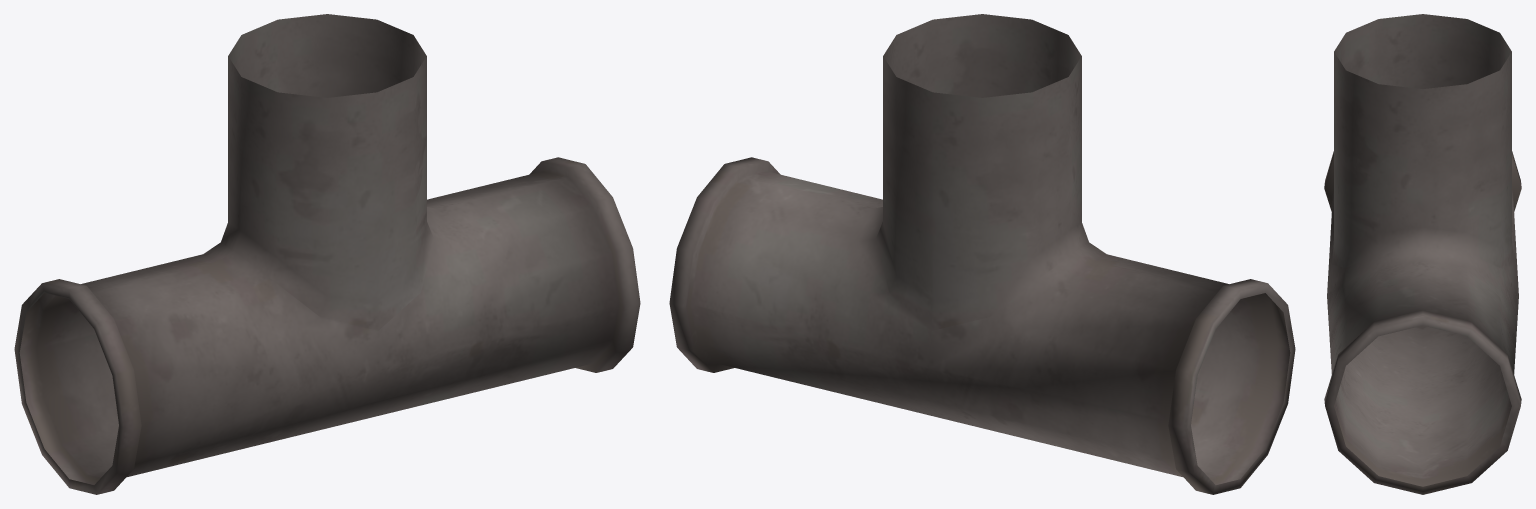
Rendered from CanoEnormeT.fbx.
3 views of the same model, side by side, from view 1: azimuth 30°, elevation 25°; view 2: azimuth 150°, elevation 25°; view 3: azimuth 270°, elevation 25° (orthographic). The views are drawn at different scales.
Visible parts, largest first — view 1: CanoEnormeT; view 2: CanoEnormeT; view 3: CanoEnormeT.
Part boxes in pixels (x1=…): CanoEnormeT: x1=14, y1=14, x2=640, y2=494; CanoEnormeT: x1=669, y1=14, x2=1295, y2=494; CanoEnormeT: x1=1324, y1=14, x2=1521, y2=494.
Bounding box in the file's own units: 600 × 410 × 222.
